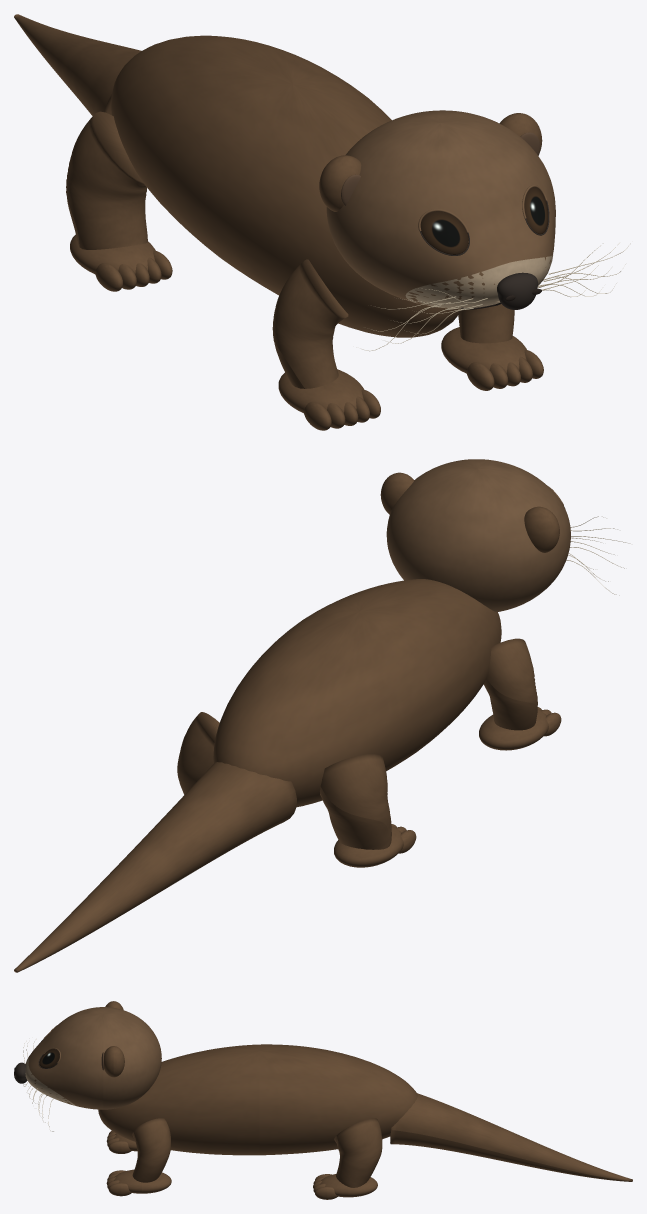
Rendered from river-otter.glb.
3 views of the same model, one above another, from view 1: azimuth 30°, elevation 25°; view 2: azimuth 150°, elevation 25°; view 3: azimuth 270°, elevation 25° (orthographic). The views are drawn at different scales.
Visible parts, largest first — view 1: Long smooth river otter torso, Furry face ears and sensory whiskers, Hindpaw_L furry limb and five toes, Forepaw_L furry limb and five toes, Forepaw_R furry limb and five toes, Long muscular tapered river tail, Small recessed corneal eye (×2); view 2: Long smooth river otter torso, Furry face ears and sensory whiskers, Long muscular tapered river tail, Hindpaw_L furry limb and five toes, Forepaw_L furry limb and five toes, Hindpaw_R furry limb and five toes; view 3: Long smooth river otter torso, Furry face ears and sensory whiskers, Long muscular tapered river tail, Hindpaw_R furry limb and five toes, Forepaw_R furry limb and five toes, Forepaw_L furry limb and five toes, Small recessed corneal eye.
Boxes of the visible parts, x1=… form: Long smooth river otter torso: x1=111, y1=35, x2=461, y2=337; Furry face ears and sensory whiskers: x1=319, y1=110, x2=630, y2=351; Hindpaw_L furry limb and five toes: x1=66, y1=111, x2=172, y2=291; Forepaw_L furry limb and five toes: x1=272, y1=259, x2=380, y2=430; Forepaw_R furry limb and five toes: x1=441, y1=304, x2=543, y2=390; Long muscular tapered river tail: x1=14, y1=14, x2=141, y2=116; Small recessed corneal eye (×2): x1=420, y1=187, x2=548, y2=254; Long smooth river otter torso: x1=213, y1=579, x2=501, y2=807; Furry face ears and sensory whiskers: x1=380, y1=459, x2=630, y2=612; Long muscular tapered river tail: x1=14, y1=762, x2=296, y2=972; Hindpaw_L furry limb and five toes: x1=320, y1=754, x2=416, y2=867; Forepaw_L furry limb and five toes: x1=479, y1=638, x2=561, y2=750; Hindpaw_R furry limb and five toes: x1=177, y1=712, x2=219, y2=794; Long smooth river otter torso: x1=98, y1=1044, x2=417, y2=1155; Furry face ears and sensory whiskers: x1=14, y1=1001, x2=161, y2=1131; Long muscular tapered river tail: x1=390, y1=1093, x2=632, y2=1181; Hindpaw_R furry limb and five toes: x1=313, y1=1118, x2=382, y2=1199; Forepaw_R furry limb and five toes: x1=106, y1=1118, x2=171, y2=1196; Forepaw_L furry limb and five toes: x1=106, y1=1130, x2=137, y2=1153; Small recessed corneal eye: x1=39, y1=1049, x2=59, y2=1068.
Size of the model in its own units: 0.9421 by 0.995 by 3.6.
8 materials, 4 textured.
